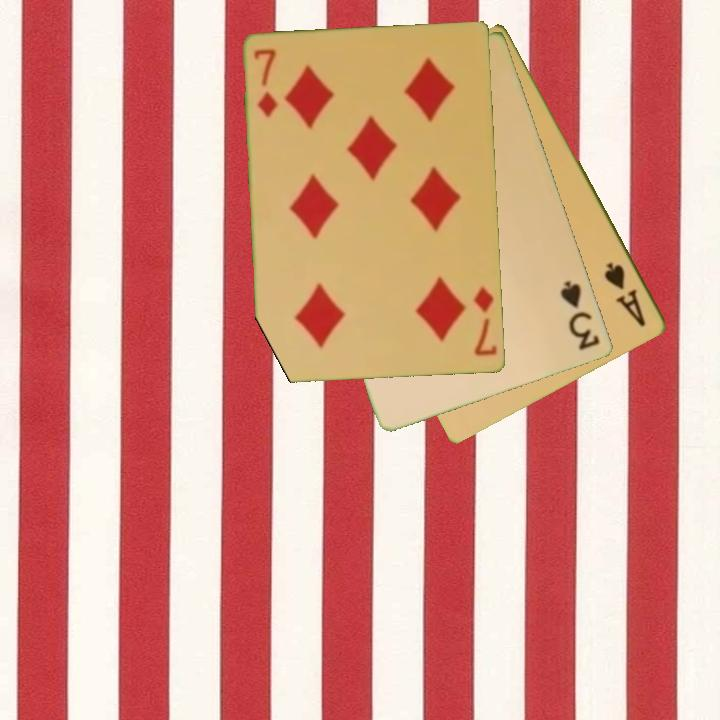3s: (557, 277, 603, 354)
7d: (250, 46, 281, 121), (471, 284, 501, 359)
As: (601, 259, 649, 330)
